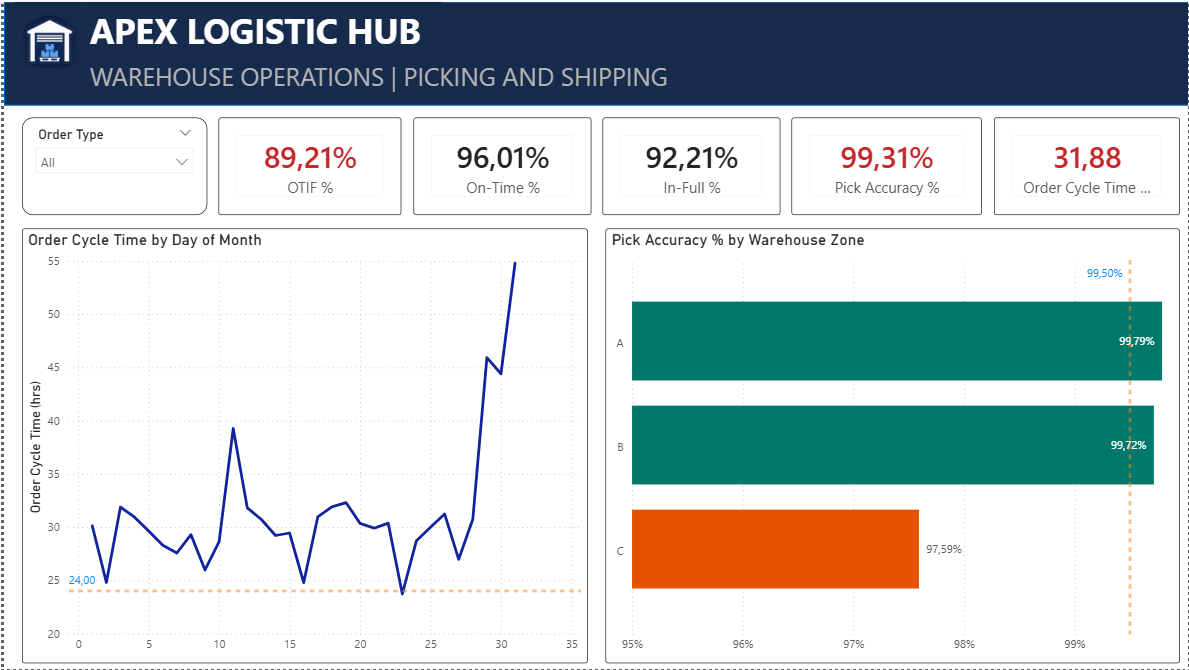

Layout of this report page (visuals, bound fields, positions):
{"tool":"powerbi","page":{"name":"Picking and Shipping","canvas":[1280,720],"ordinal":3},"visuals":[{"type":"shape","box":[0,0,1280.8,111.7],"z":0},{"type":"image","box":[11.3,0,76.1,82.6],"z":1000},{"type":"textbox","box":[87.4,0,385.4,69.6],"z":2000},{"type":"textbox","box":[87.4,56.7,659,45.3],"z":3000},{"type":"slicer","fields":{"Values":["dw fact_orders.order_type"]},"box":[20,125,200,105],"z":4000},{"type":"cardVisual","fields":{"Data":["_Measures.On-Time %"]},"box":[442.1,125,192,105],"z":6000},{"type":"cardVisual","fields":{"Data":["_Measures.In-Full %"]},"box":[646.4,125,192,105],"z":7000},{"type":"cardVisual","fields":{"Data":["_Measures.Order Cycle Time (hrs)"]},"box":[1068.7,124.7,200.8,105.2],"z":8000},{"type":"lineChart","title":"Order Cycle Time by Day of Month","fields":{"Y":["_Measures.Order Cycle Time (hrs)"],"Category":["dw dim_date.day_of_month"]},"box":[20,245,610.4,469.6],"z":10000},{"type":"clusteredBarChart","title":"Pick Accuracy % by Warehouse Zone","fields":{"Category":["dw dim_location.zone"],"Y":["_Measures.Pick Accuracy %"]},"box":[649.3,244.5,620.2,469.6],"z":11000},{"type":"cardVisual","fields":{"Data":["_Measures.OTIF %"]},"box":[232.3,124.7,197.5,105.2],"z":11001},{"type":"cardVisual","fields":{"Data":["_Measures.Pick Accuracy %"]},"box":[850.7,124.7,205.6,105.2],"z":11002}]}

Visuals, with their boxes in screenshot pixels (x1, y1, x2, y2), scaled from the page's 1280x720 canvas onto the 1189x670 screenshot:
shape: box=[0, 0, 1188, 104]
image: box=[10, 0, 81, 77]
textbox: box=[81, 0, 439, 65]
textbox: box=[81, 53, 693, 95]
slicer - dw fact_orders.order_type: box=[19, 116, 204, 214]
cardVisual - _Measures.On-Time %: box=[411, 116, 589, 214]
cardVisual - _Measures.In-Full %: box=[600, 116, 779, 214]
cardVisual - _Measures.Order Cycle Time (hrs): box=[993, 116, 1179, 214]
"Order Cycle Time by Day of Month" lineChart: box=[19, 228, 586, 665]
"Pick Accuracy % by Warehouse Zone" clusteredBarChart: box=[603, 228, 1179, 665]
cardVisual - _Measures.OTIF %: box=[216, 116, 399, 214]
cardVisual - _Measures.Pick Accuracy %: box=[790, 116, 981, 214]
